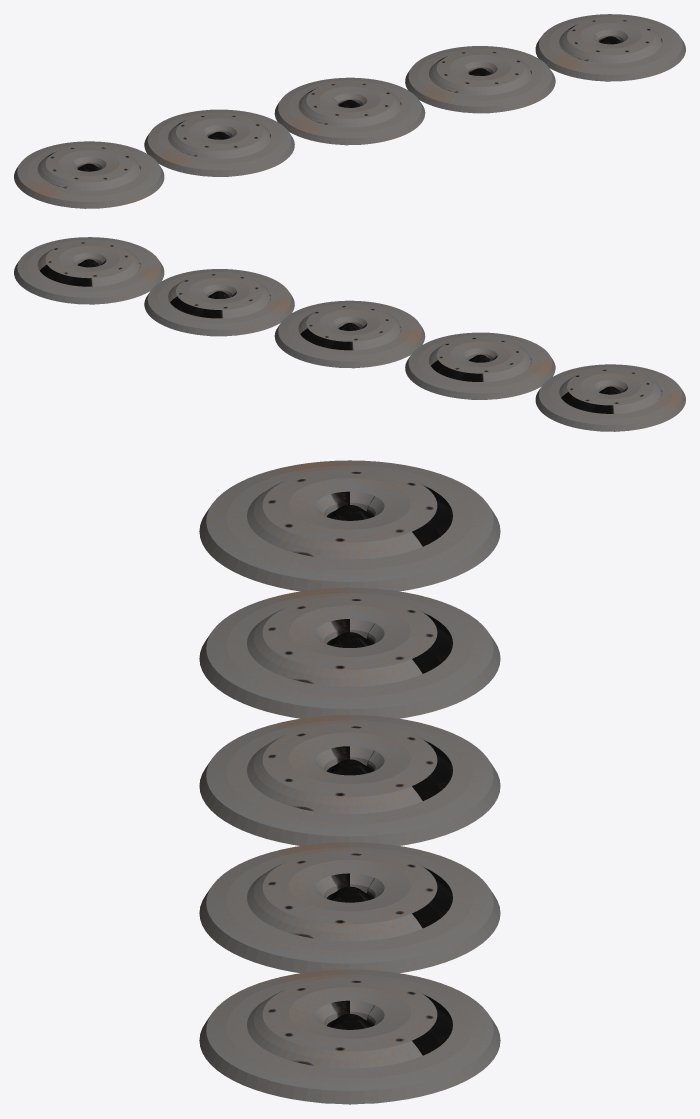
File: DartTrap5.fbx
The picture shows the model from 3 angles, top to bottom: view 1: azimuth 30°, elevation 25°; view 2: azimuth 150°, elevation 25°; view 3: azimuth 270°, elevation 25°; orthographic projection. The views are drawn at different scales.
Visible parts, largest first — view 1: Cylinder.002; view 2: Cylinder.002; view 3: Cylinder.002.
Part boxes in pixels (x1,y1,x2,y2): Cylinder.002: (14, 14, 685, 208); Cylinder.002: (14, 237, 685, 431); Cylinder.002: (199, 460, 500, 1104).
Size of the model in its own units: 0.4976 by 0.0151 by 0.0995.
